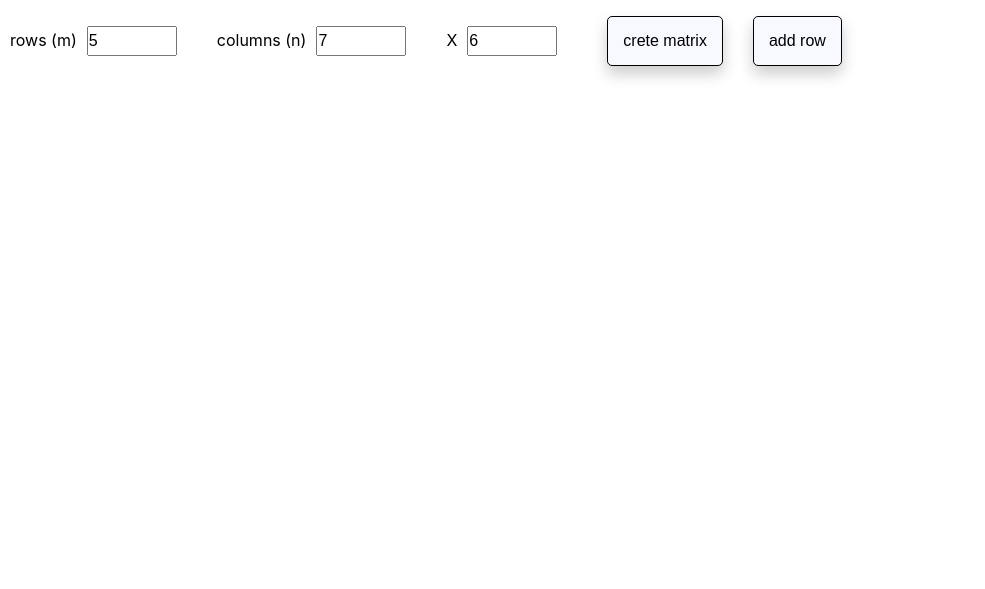
Test case: Context › renders proper amount of cells
Click the button "crete matrix": (665, 41) [607,16,723,66]
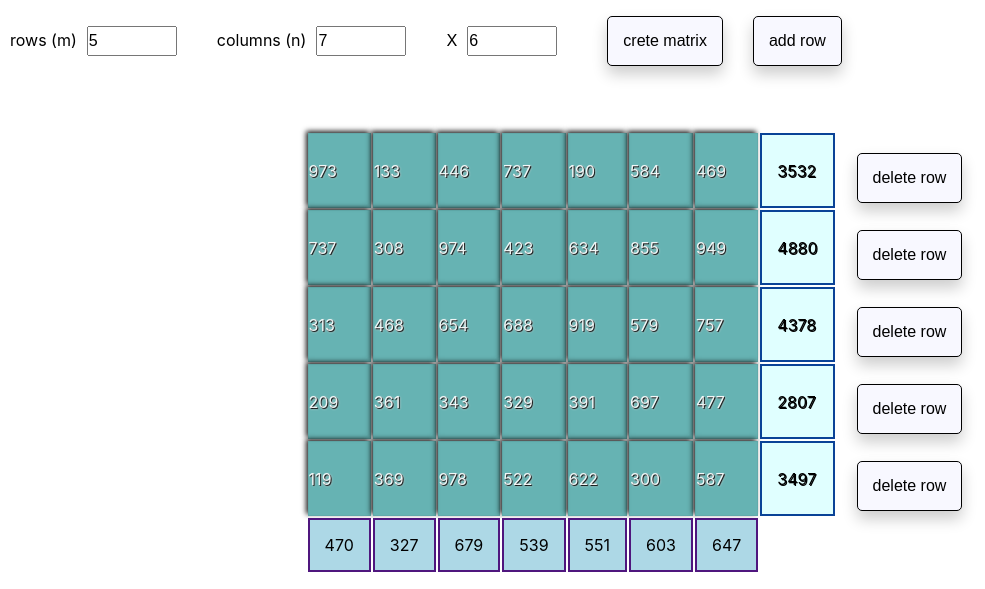
Now the number of cells is 52
